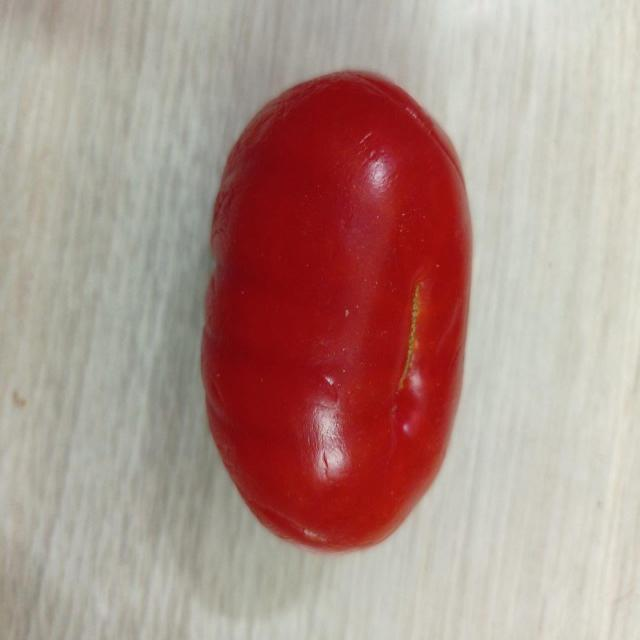Tomato: (198, 69, 478, 554)
